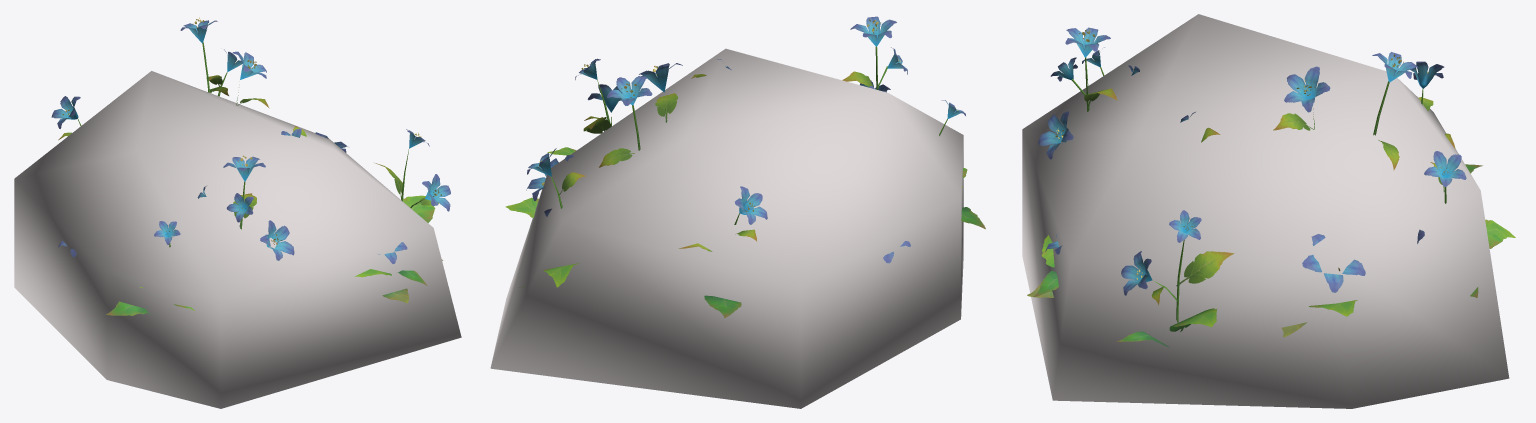
Rendered from Homeworld_Exterior_Dq_Plant_Grass_03_Lod0.fbx.
The picture shows the model from 3 angles, left to right: view 1: azimuth 30°, elevation 25°; view 2: azimuth 150°, elevation 25°; view 3: azimuth 270°, elevation 25°; orthographic projection. The views are drawn at different scales.
Parts seen in each view (by area): view 1: EffectMesh, Area_Dq_Grass_Common_Dt_01_Lod0; view 2: EffectMesh, Area_Dq_Grass_Common_Dt_01_Lod0; view 3: EffectMesh, Area_Dq_Grass_Common_Dt_01_Lod0.
Part boxes in pixels (x1=…): EffectMesh: x1=14, y1=71, x2=461, y2=408; Area_Dq_Grass_Common_Dt_01_Lod0: x1=51, y1=17, x2=450, y2=315; EffectMesh: x1=490, y1=48, x2=963, y2=408; Area_Dq_Grass_Common_Dt_01_Lod0: x1=505, y1=16, x2=985, y2=317; EffectMesh: x1=1022, y1=14, x2=1509, y2=408; Area_Dq_Grass_Common_Dt_01_Lod0: x1=1027, y1=27, x2=1515, y2=347.
Size of the model in its own units: 3.22 by 2.03 by 3.27.
2 materials, 1 textured.
